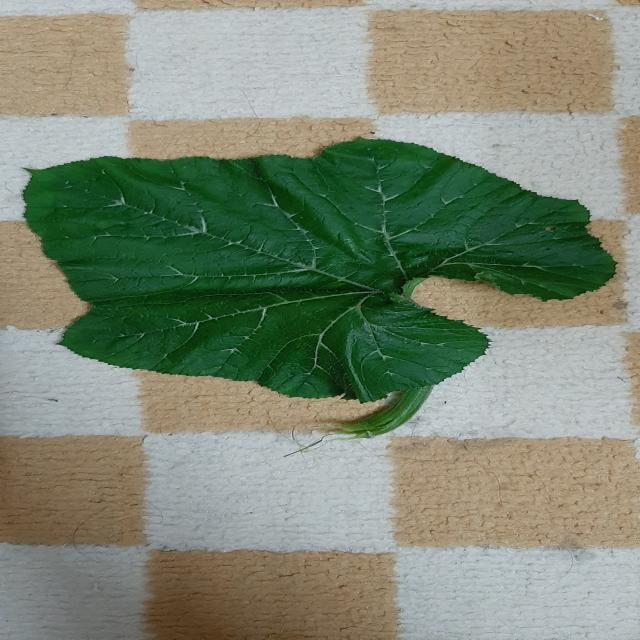pumpkin: (24, 139, 615, 438)
